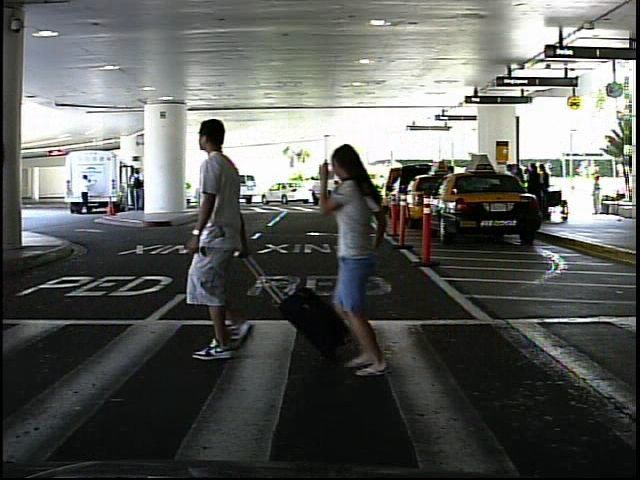person: (168, 101, 290, 368), (324, 134, 422, 380), (76, 172, 95, 222), (588, 172, 607, 218)
